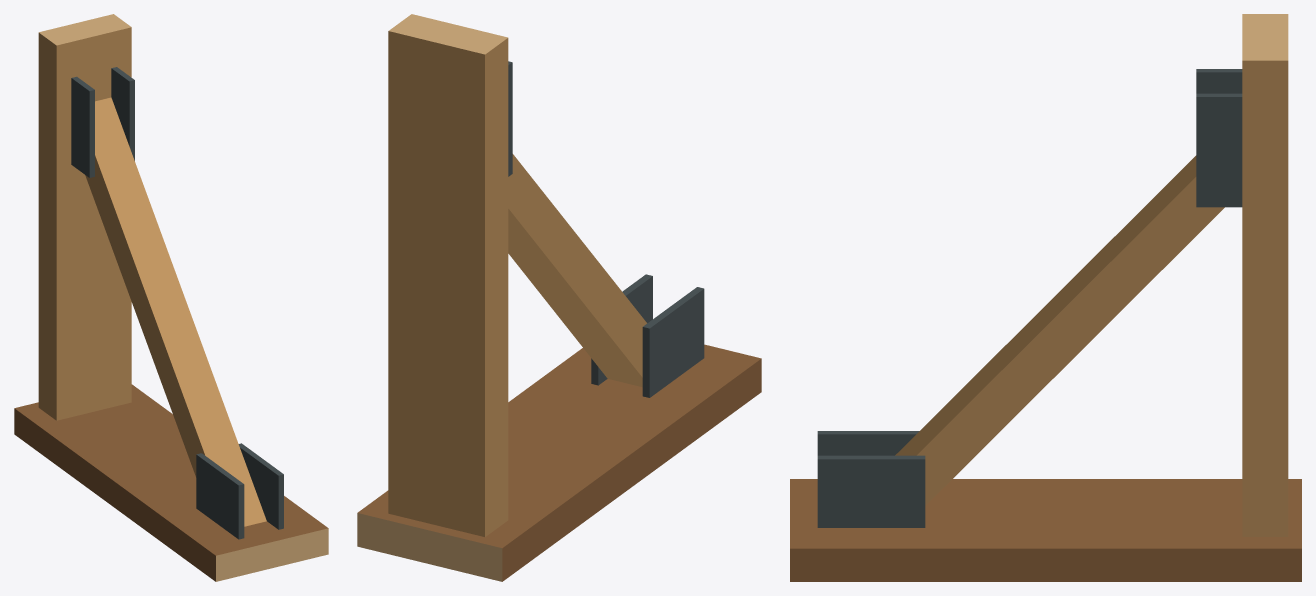
3 renders of one model, left to right at view 1: azimuth 30°, elevation 25°; view 2: azimuth 150°, elevation 25°; view 3: azimuth 270°, elevation 25°, orthographic. The views are drawn at different scales.
Visible parts, largest first — view 1: WholeVerticalWallPlate, WholeHorizontalGroundSole, ContinuousFlushCutDiagonalRaker, HeelLimiter_Left, HeadLimiter_Left, HeelLimiter_Right, HeadLimiter_Right; view 2: WholeVerticalWallPlate, WholeHorizontalGroundSole, ContinuousFlushCutDiagonalRaker, HeelLimiter_Left, HeelLimiter_Right, HeadLimiter_Left; view 3: WholeHorizontalGroundSole, WholeVerticalWallPlate, ContinuousFlushCutDiagonalRaker, HeelLimiter_Right, HeadLimiter_Right, HeelLimiter_Left, HeadLimiter_Left.
Boxes of the visible parts, left/top/right/bottom form: WholeVerticalWallPlate: left=38, top=14, right=131, bottom=420; WholeHorizontalGroundSole: left=14, top=384, right=328, bottom=581; ContinuousFlushCutDiagonalRaker: left=85, top=97, right=266, bottom=526; HeelLimiter_Left: left=196, top=453, right=244, bottom=539; HeadLimiter_Left: left=71, top=76, right=94, bottom=177; HeelLimiter_Right: left=238, top=443, right=283, bottom=529; HeadLimiter_Right: left=111, top=67, right=134, bottom=160; WholeVerticalWallPlate: left=388, top=14, right=508, bottom=536; WholeHorizontalGroundSole: left=357, top=344, right=761, bottom=581; ContinuousFlushCutDiagonalRaker: left=508, top=154, right=646, bottom=387; HeelLimiter_Left: left=642, top=287, right=704, bottom=397; HeelLimiter_Right: left=591, top=274, right=652, bottom=385; HeadLimiter_Left: left=508, top=61, right=512, bottom=176; WholeHorizontalGroundSole: left=790, top=479, right=1301, bottom=581; WholeVerticalWallPlate: left=1242, top=14, right=1288, bottom=536; ContinuousFlushCutDiagonalRaker: left=895, top=155, right=1224, bottom=505; HeelLimiter_Right: left=817, top=455, right=925, bottom=527; HeadLimiter_Right: left=1196, top=93, right=1242, bottom=207; HeelLimiter_Left: left=817, top=431, right=919, bottom=455; HeadLimiter_Left: left=1196, top=69, right=1242, bottom=93.
Bounding box in the file's own units: 0.72 × 2.45 × 2.23.
